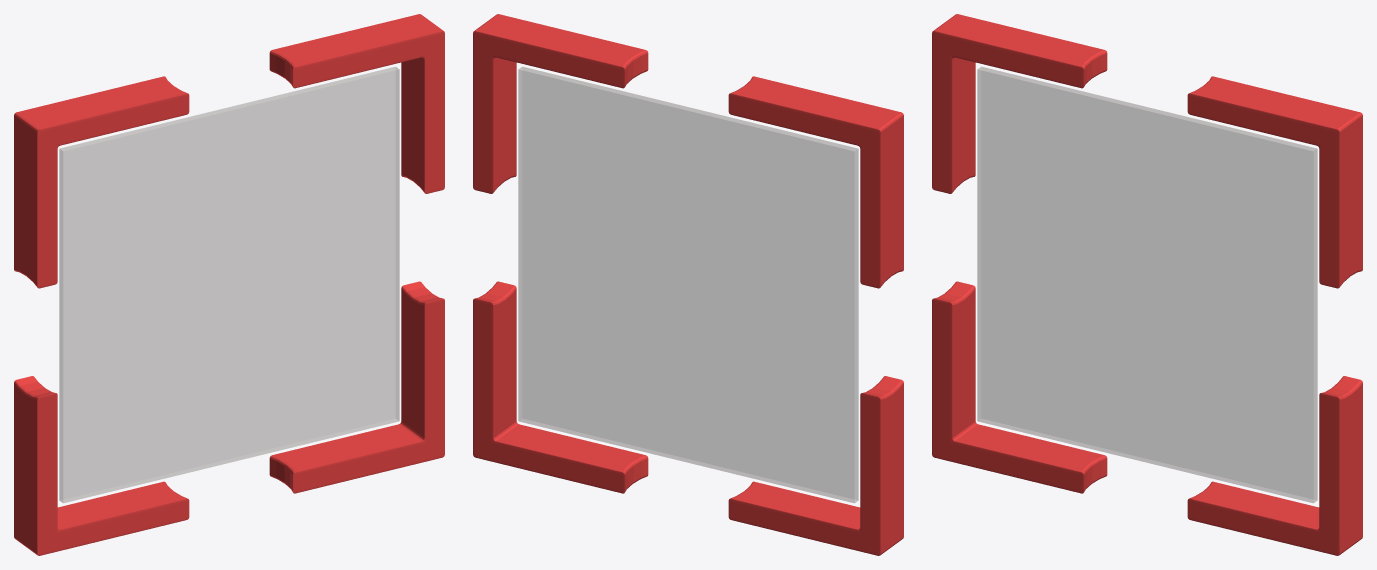
File: mirrorRed.gltf
3 views of the same model, side by side, from view 1: azimuth 30°, elevation 25°; view 2: azimuth 150°, elevation 25°; view 3: azimuth 330°, elevation 25° (orthographic).
Parts seen in each view (by area): view 1: Cube.021, Cube.026; view 2: Cube.021, Cube.026; view 3: Cube.021, Cube.026.
Boxes of the visible parts, <box> form: Cube.021: <box>59,66,399,503</box>; Cube.026: <box>14,14,444,555</box>; Cube.021: <box>518,66,858,503</box>; Cube.026: <box>473,14,903,555</box>; Cube.021: <box>977,66,1317,503</box>; Cube.026: <box>932,14,1362,555</box>.
Size of what is drawn, in the model's own units: 2 by 2 by 0.2.
